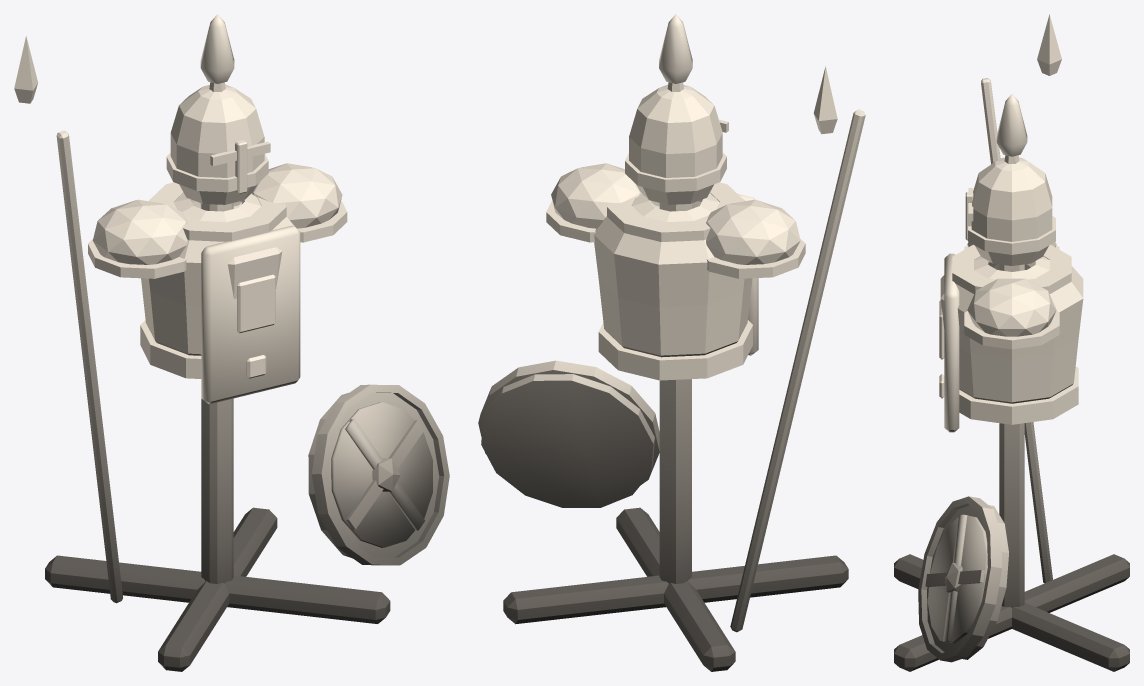
Rendered from SM_VK_Prop_ArmorStand.fbx.
3 views of the same model, side by side, from view 1: azimuth 30°, elevation 25°; view 2: azimuth 150°, elevation 25°; view 3: azimuth 270°, elevation 25° (orthographic). The views are drawn at different scales.
Visible parts, largest first — view 1: SM_VK_Prop_ArmorStand.001; view 2: SM_VK_Prop_ArmorStand.001; view 3: SM_VK_Prop_ArmorStand.001.
Boxes of the visible parts, <box> form: SM_VK_Prop_ArmorStand.001: <box>14,14,449,671</box>; SM_VK_Prop_ArmorStand.001: <box>478,14,865,671</box>; SM_VK_Prop_ArmorStand.001: <box>894,14,1129,671</box>.
Size of the model in its own units: 1.64 by 2.36 by 0.9424.
